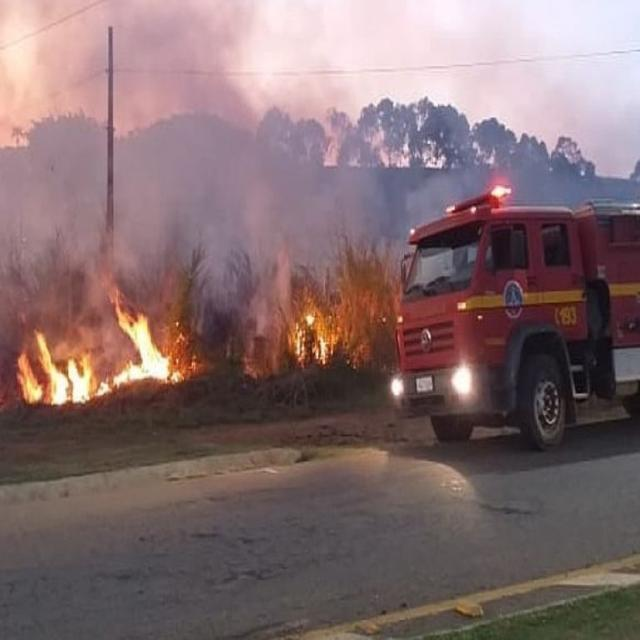fire: (30, 334, 169, 405)
smoke: (42, 24, 220, 232), (228, 159, 376, 244)
